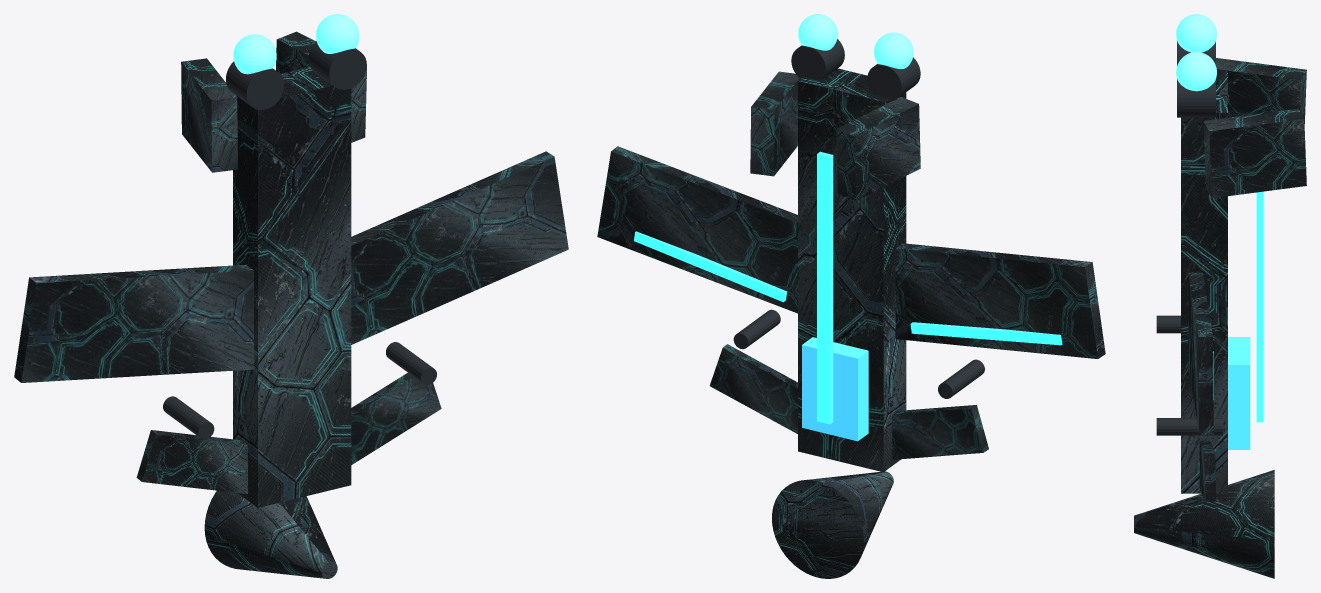
The model's file is player_stormhawk.glb.
The picture shows the model from 3 angles, left to right: view 1: azimuth 30°, elevation 25°; view 2: azimuth 150°, elevation 25°; view 3: azimuth 270°, elevation 25°; orthographic projection. The views are drawn at different scales.
Parts seen in each view (by area): view 1: FuselageArmoredBody_Textured, LeftSweptWing_Textured, RightSweptWing_Textured, NeedleNoseCone_Textured, LeftForwardCanard_Textured, LeftTailFin_Textured, RightForwardCanard_Textured, RightTailFin_Textured, RightEngineNozzle, LeftEngineNozzle, LeftEngineGlow, RightEngineGlow (+2 smaller); view 2: FuselageArmoredBody_Textured, LeftSweptWing_Textured, RightSweptWing_Textured, NeedleNoseCone_Textured, LeftTailFin_Textured, CockpitCanopy_Glass, CyanSpineStrip_Emissive, LeftForwardCanard_Textured, RightForwardCanard_Textured, RightTailFin_Textured, RightWingCyanEdge, LeftWingCyanEdge (+6 smaller); view 3: FuselageArmoredBody_Textured, NeedleNoseCone_Textured, RightTailFin_Textured, LeftTailFin_Textured, RightSweptWing_Textured, CockpitCanopy_Glass, CyanSpineStrip_Emissive, RightEngineGlow, LeftEngineGlow, RightEngineNozzle, RightWeaponHardpoint, RightForwardCanard_Textured (+2 smaller).
Boxes of the visible parts, x1=… form: FuselageArmoredBody_Textured: x1=233, y1=67, x2=351, y2=507; LeftSweptWing_Textured: x1=14, y1=264, x2=253, y2=382; RightSweptWing_Textured: x1=351, y1=151, x2=568, y2=344; NeedleNoseCone_Textured: x1=204, y1=490, x2=337, y2=578; LeftForwardCanard_Textured: x1=136, y1=430, x2=247, y2=493; LeftTailFin_Textured: x1=181, y1=58, x2=237, y2=172; RightForwardCanard_Textured: x1=351, y1=373, x2=441, y2=464; RightTailFin_Textured: x1=276, y1=31, x2=366, y2=142; RightEngineNozzle: x1=308, y1=41, x2=366, y2=89; LeftEngineNozzle: x1=226, y1=61, x2=284, y2=109; LeftEngineGlow: x1=233, y1=34, x2=276, y2=74; RightEngineGlow: x1=316, y1=14, x2=359, y2=53; FuselageArmoredBody_Textured: x1=798, y1=68, x2=906, y2=472; LeftSweptWing_Textured: x1=895, y1=243, x2=1105, y2=358; RightSweptWing_Textured: x1=597, y1=146, x2=797, y2=313; NeedleNoseCone_Textured: x1=772, y1=471, x2=893, y2=578; LeftTailFin_Textured: x1=836, y1=97, x2=920, y2=200; CockpitCanopy_Glass: x1=802, y1=337, x2=868, y2=441; CyanSpineStrip_Emissive: x1=817, y1=151, x2=833, y2=424; LeftForwardCanard_Textured: x1=892, y1=405, x2=988, y2=459; RightForwardCanard_Textured: x1=709, y1=344, x2=797, y2=433; RightTailFin_Textured: x1=750, y1=71, x2=799, y2=176; RightWingCyanEdge: x1=634, y1=231, x2=787, y2=302; LeftWingCyanEdge: x1=910, y1=322, x2=1062, y2=345; FuselageArmoredBody_Textured: x1=1181, y1=70, x2=1227, y2=493; NeedleNoseCone_Textured: x1=1134, y1=470, x2=1274, y2=578; RightTailFin_Textured: x1=1203, y1=108, x2=1306, y2=198; LeftTailFin_Textured: x1=1216, y1=58, x2=1306, y2=123; RightSweptWing_Textured: x1=1188, y1=272, x2=1213, y2=434; CockpitCanopy_Glass: x1=1228, y1=337, x2=1250, y2=449; CyanSpineStrip_Emissive: x1=1256, y1=191, x2=1263, y2=422; RightEngineGlow: x1=1176, y1=52, x2=1216, y2=91; LeftEngineGlow: x1=1176, y1=14, x2=1216, y2=52; RightEngineNozzle: x1=1177, y1=79, x2=1215, y2=117; RightWeaponHardpoint: x1=1156, y1=418, x2=1222, y2=435; RightForwardCanard_Textured: x1=1199, y1=440, x2=1215, y2=501.
Size of the model in its own units: 3.05 by 3.05 by 0.8845.
Materials: 5 (1 with a texture image).
